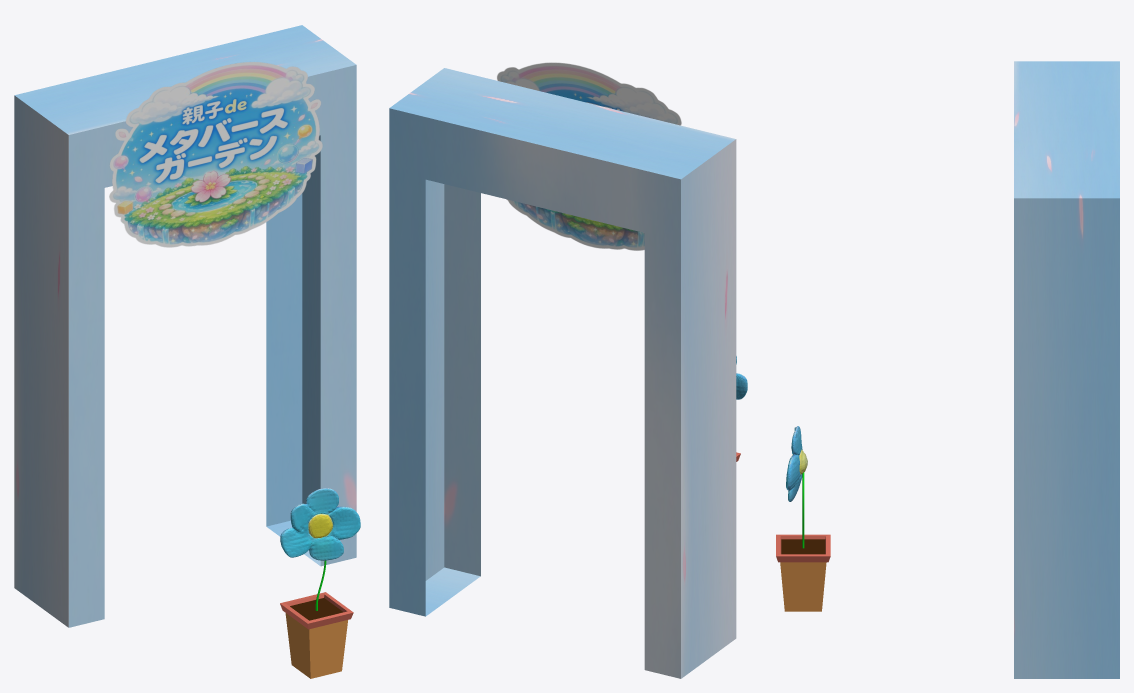
The picture shows the model from 3 angles, left to right: view 1: azimuth 30°, elevation 25°; view 2: azimuth 150°, elevation 25°; view 3: azimuth 270°, elevation 25°; orthographic projection. The views are drawn at different scales.
Parts seen in each view (by area): view 1: Cube, ロゴ〇, Cylinder, world; view 2: Cube, ロゴ〇; view 3: Cube, Cylinder, world.
Boxes of the visible parts, x1,y1,x2,y2 form: Cube: (14, 25, 356, 627); ロゴ〇: (109, 62, 322, 247); Cylinder: (280, 560, 353, 678); world: (280, 488, 360, 560); Cube: (389, 68, 736, 678); ロゴ〇: (497, 62, 681, 250); Cube: (1014, 61, 1119, 678); Cylinder: (776, 472, 830, 611); world: (786, 426, 807, 501).
Size of the model in its own units: 6.11 by 11.12 by 6.49.
7 materials, 2 textured.
